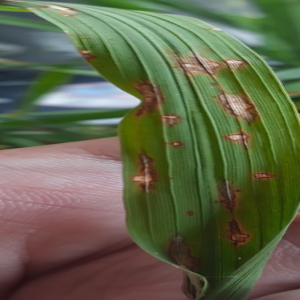Rice_Blast: (215, 87, 266, 137), (163, 231, 206, 288), (119, 72, 166, 122), (167, 49, 226, 84), (126, 145, 164, 199), (206, 174, 241, 215), (220, 40, 251, 83), (221, 218, 258, 253), (217, 122, 256, 149), (248, 160, 282, 187), (40, 2, 81, 23), (78, 35, 104, 66), (167, 134, 197, 157), (162, 110, 184, 126)
